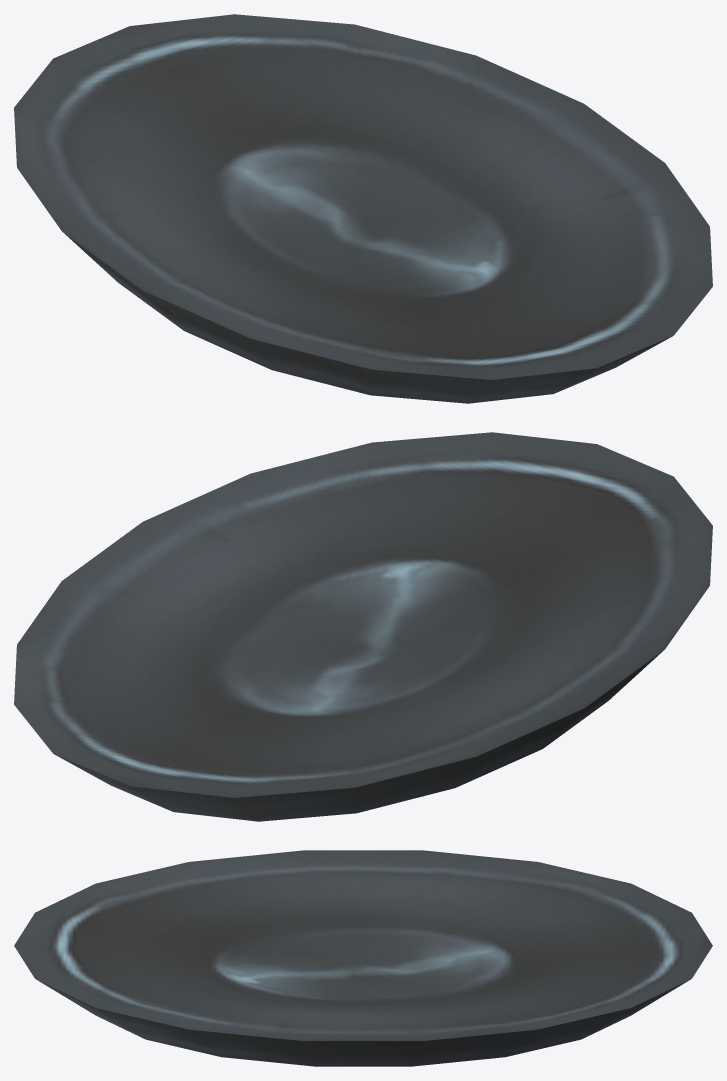
File: plate_metal4.fbx
3 renders of one model, top to bottom at view 1: azimuth 30°, elevation 25°; view 2: azimuth 150°, elevation 25°; view 3: azimuth 270°, elevation 25°, orthographic. The views are drawn at different scales.
Parts seen in each view (by area): view 1: plate_metal4; view 2: plate_metal4; view 3: plate_metal4.
Part boxes in pixels (left/top/right/bottom): plate_metal4: left=14, top=14, right=712, bottom=403; plate_metal4: left=14, top=432, right=712, bottom=821; plate_metal4: left=14, top=850, right=712, bottom=1066.
Size of the model in its own units: 60.83 by 6.43 by 94.27.
